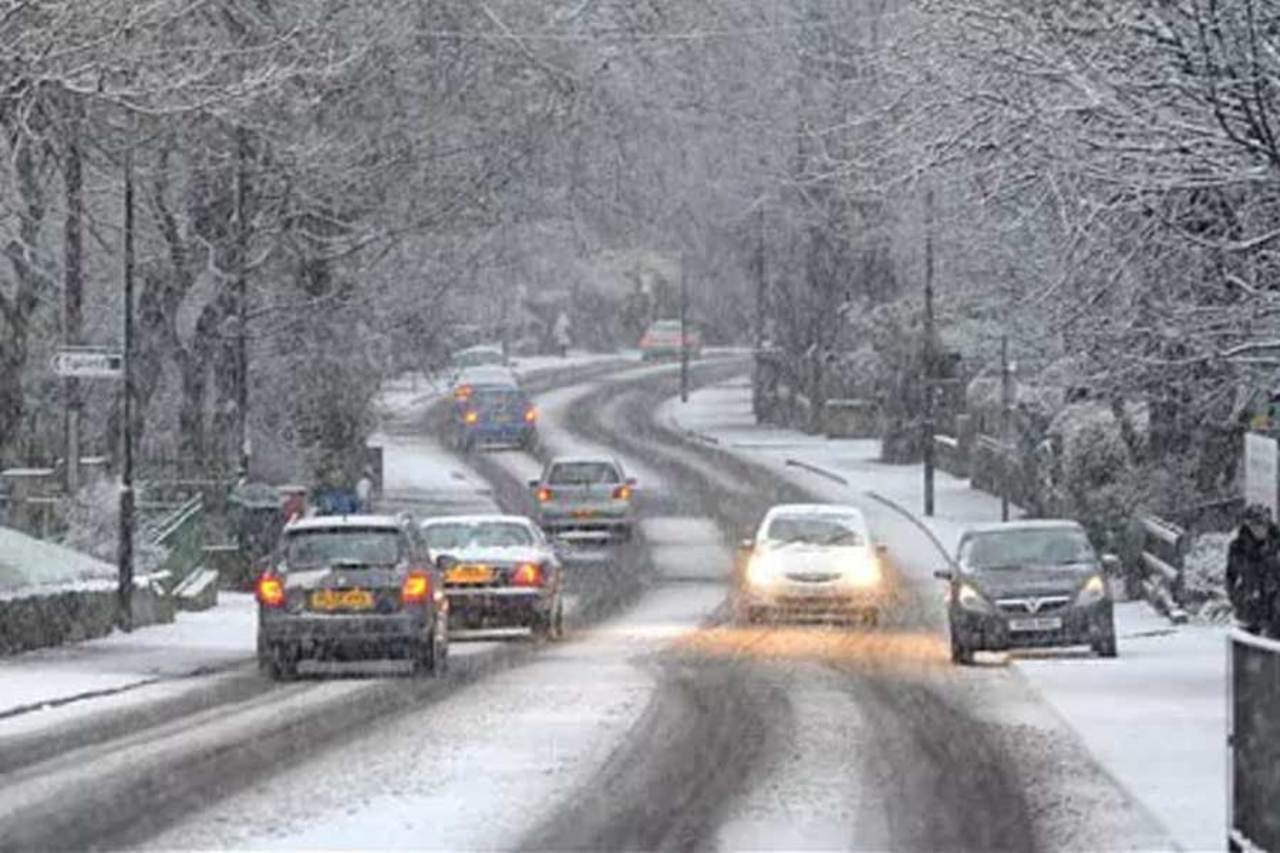car: (255, 512, 446, 684), (943, 520, 1115, 664), (422, 512, 567, 645), (738, 503, 892, 624), (536, 456, 637, 546), (444, 373, 538, 455), (640, 318, 702, 360)
person: (1227, 507, 1279, 639)
